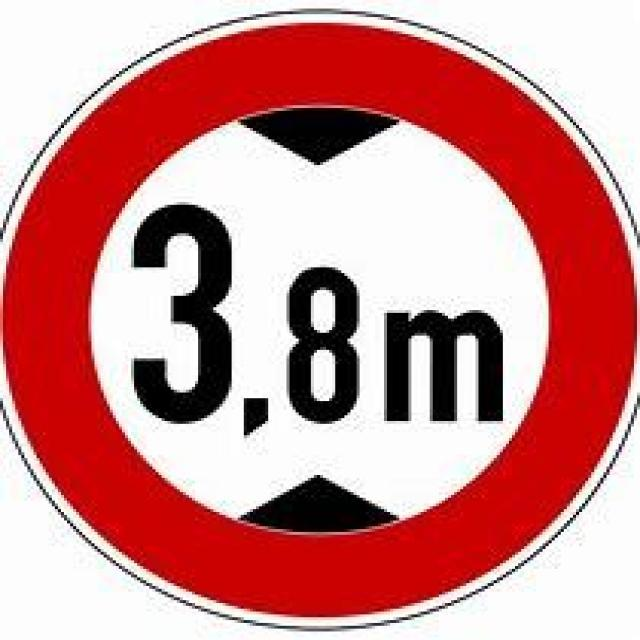height limit: (18, 15, 624, 617)
